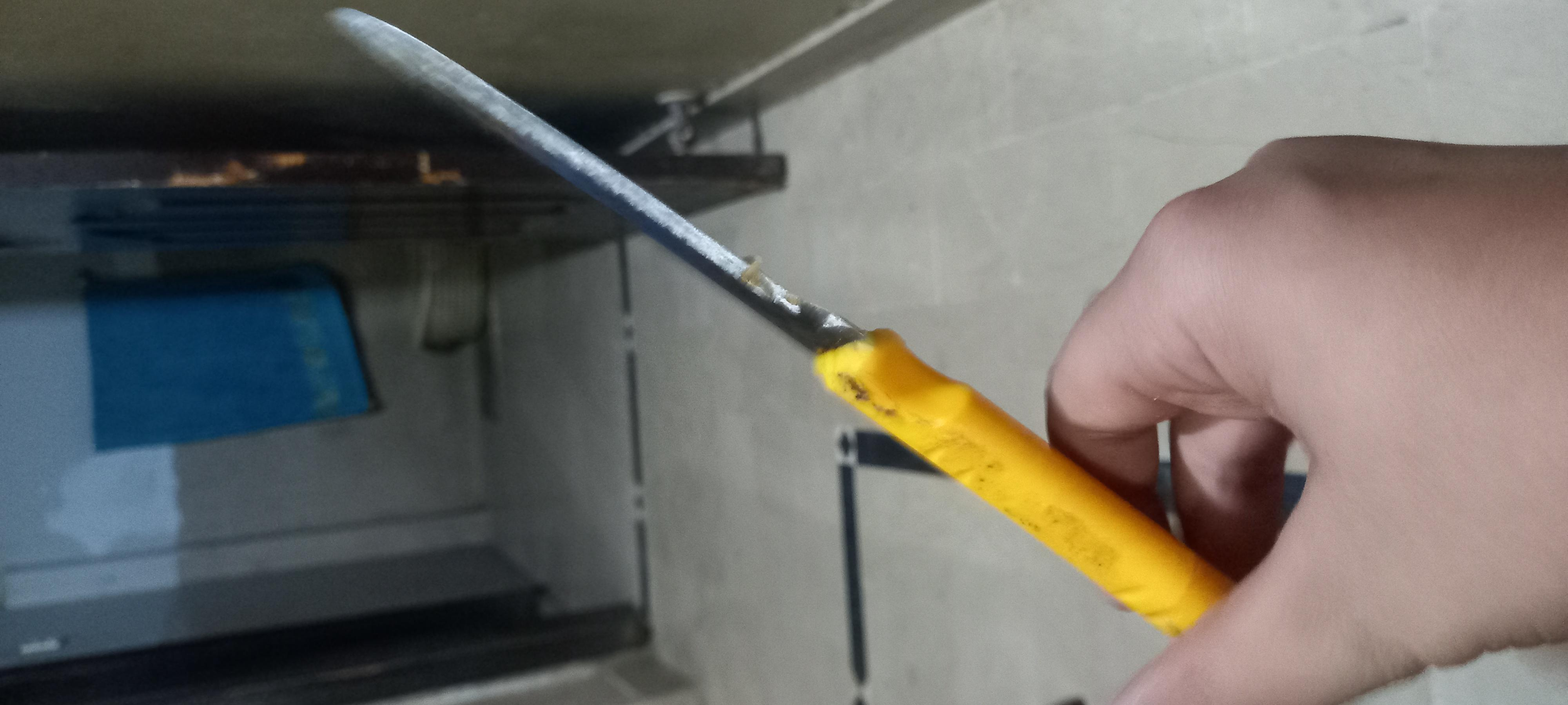knives: (1, 140, 1538, 560)
